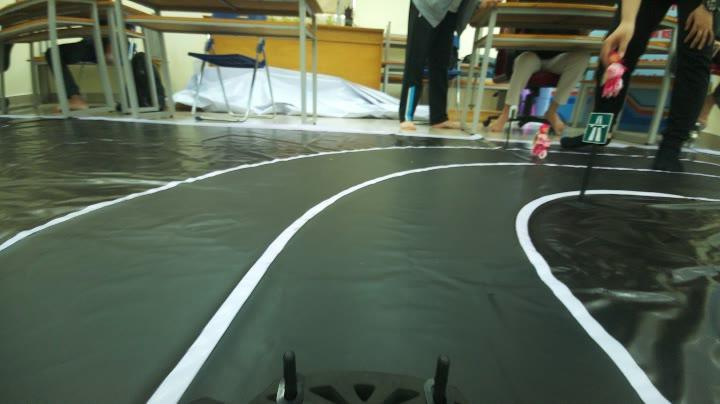highway_entry: (582, 106, 616, 153)
